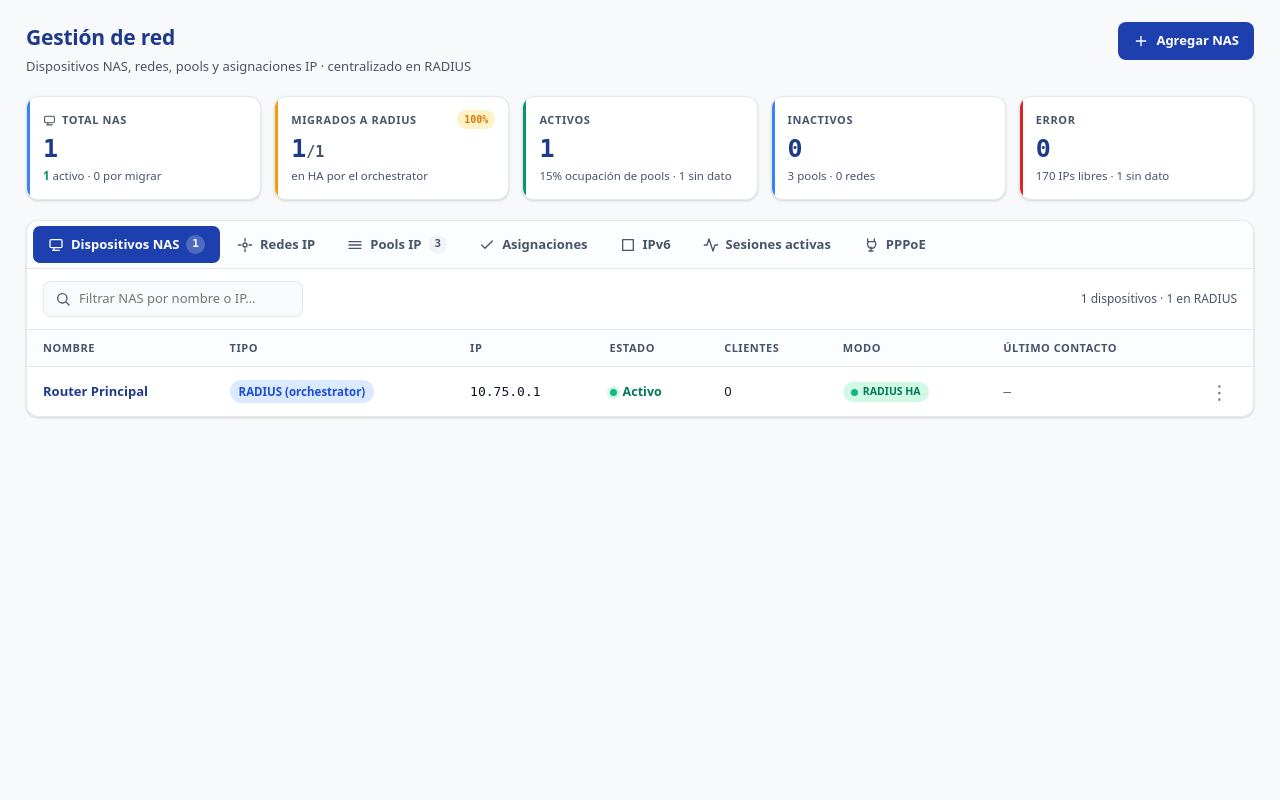
GestionRedPage — Tab Pools IP › P-3: KPIs null-safe › excluye assignedCount=null del total de asignadas
Click the button "Pools IP 3": (397, 245) [332,226,462,263]
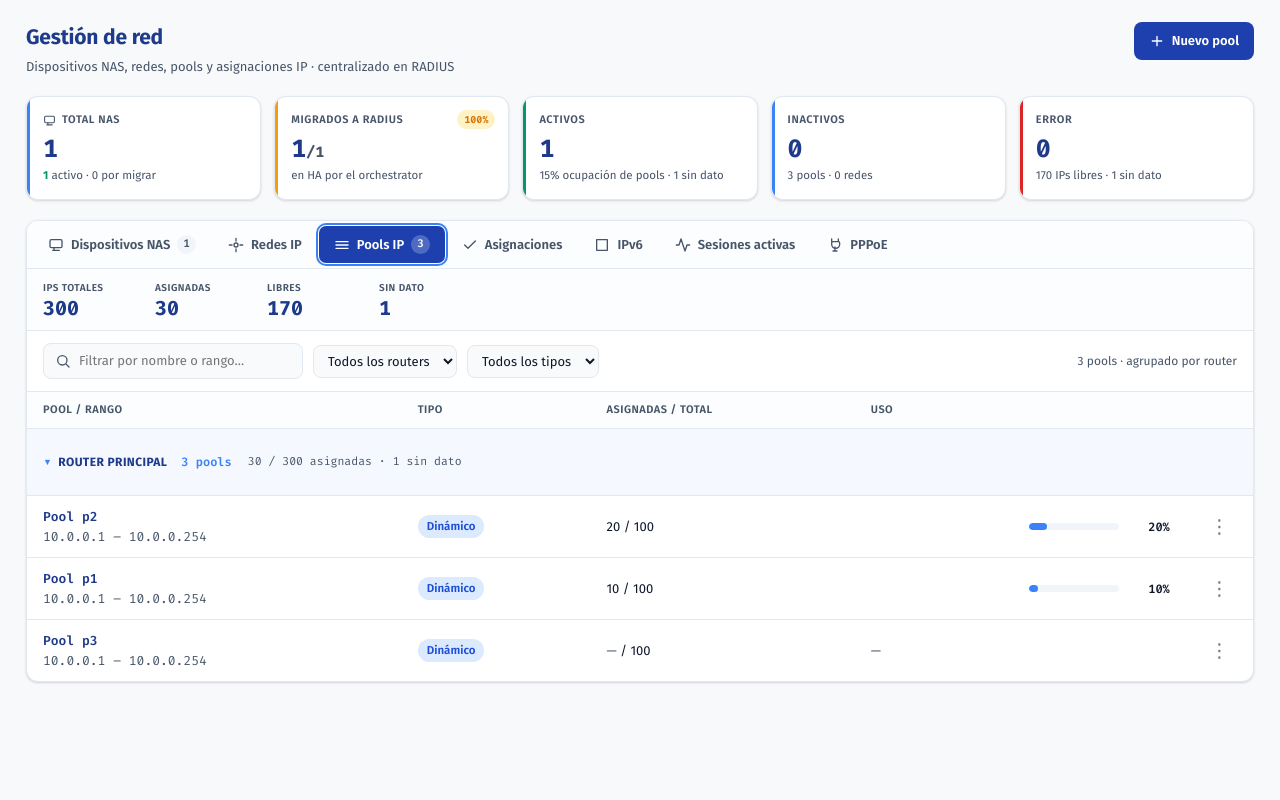
expect the element named "Totales de pools" shows "30": met, box [155,295,179,321]
expect the element named "Totales de pools" shows "300": met, box [43,295,79,321]
expect the element named "Totales de pools" shows "170": met, box [267,295,303,321]
